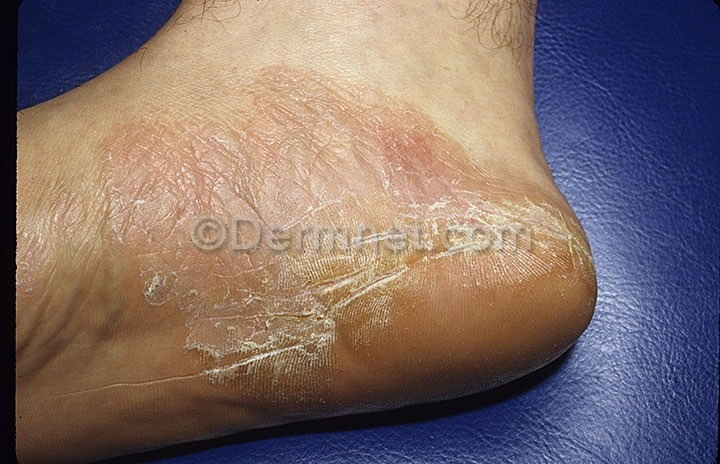Psoriasis: (120, 189, 592, 390)
